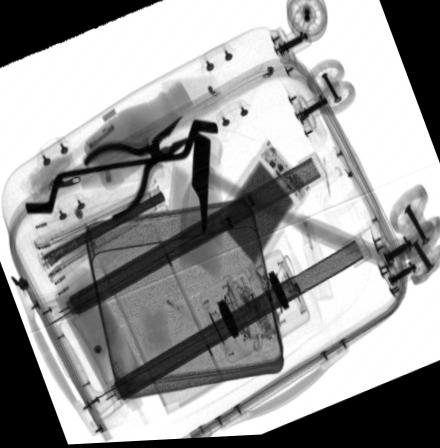Hammer: (190, 133, 393, 274)
Pliers: (79, 114, 191, 224)
Powerbank: (207, 140, 310, 285)
Wrench: (24, 121, 217, 215)
